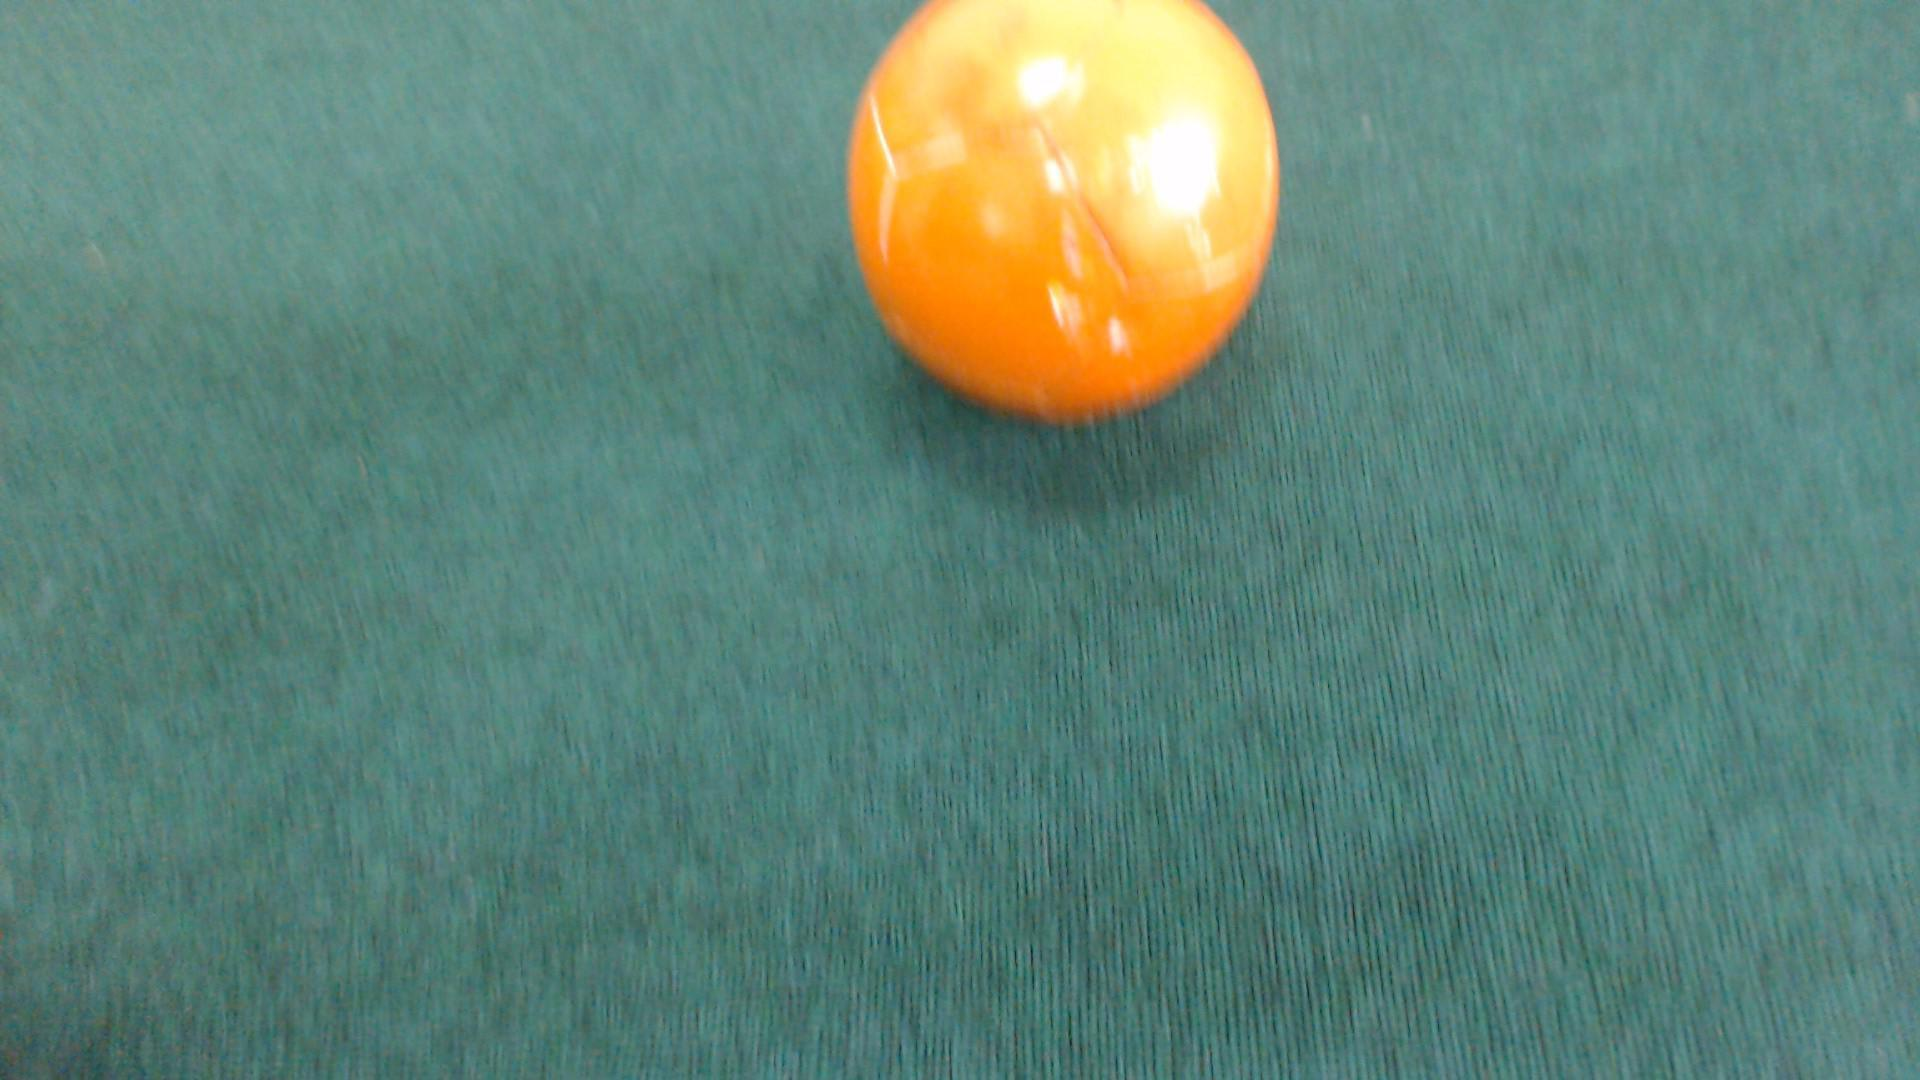bola: (824, 3, 1308, 458)
